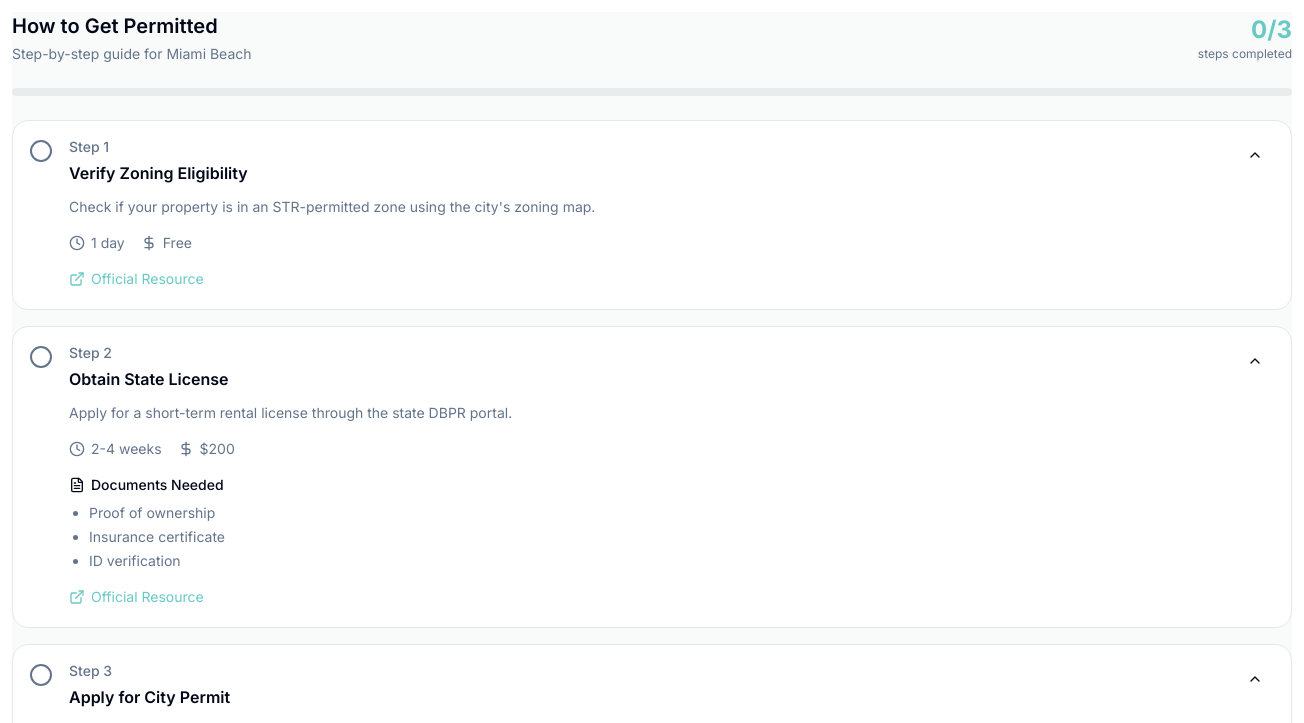
Test: ApplicationSteps component › completion tracking › can toggle step back to incomplete
What coordinates should you click on to do the following:
click the 1st button named "mark as complete"
I would click on:
 (41, 151)
Its box is [29,139,53,163].
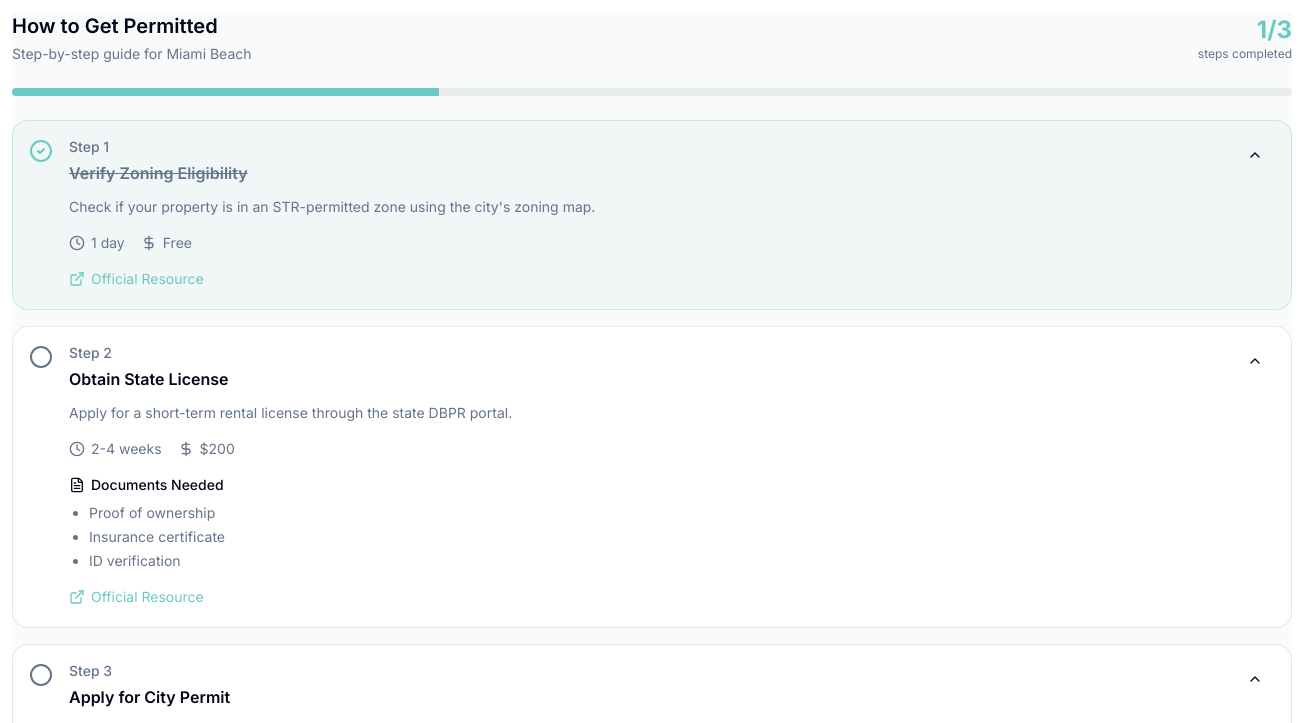
What coordinates should you click on to do the following:
click the button named "mark as incomplete"
I would click on:
 (41, 151)
Its box is [29,139,53,163].
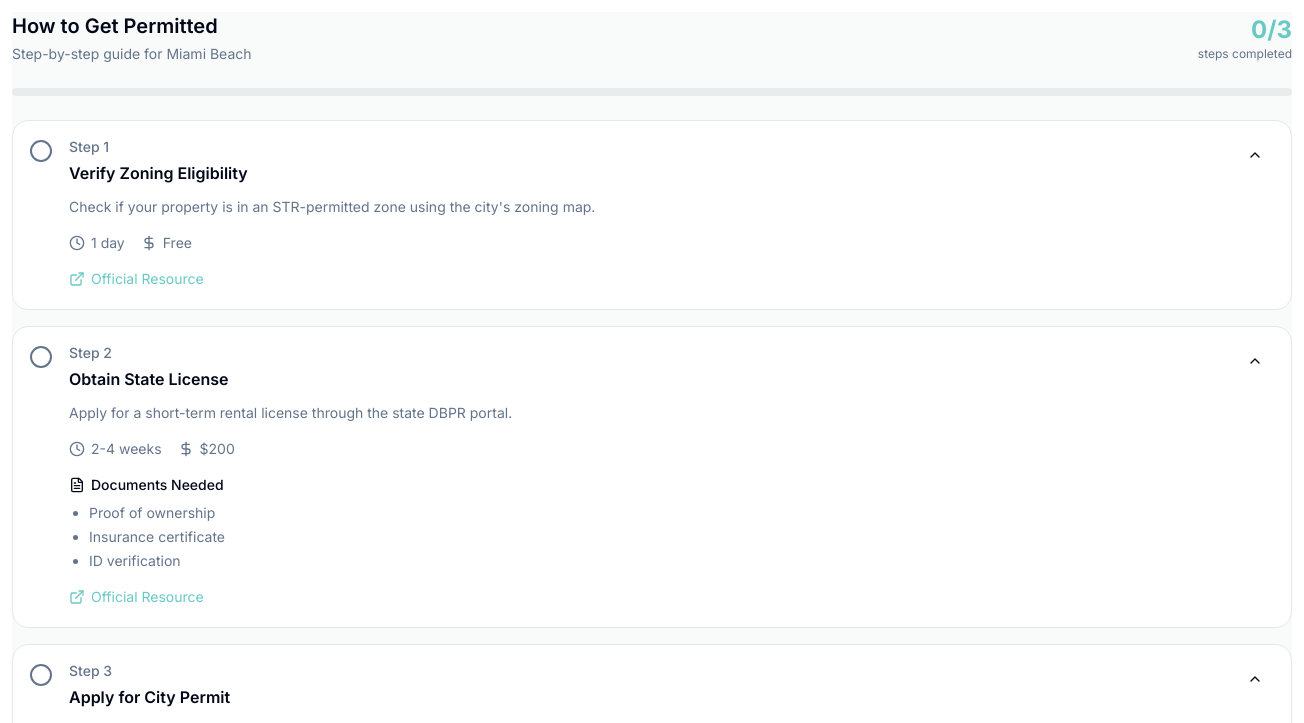
expect the text "0/3" is shown: met, box [1251,15,1292,44]
